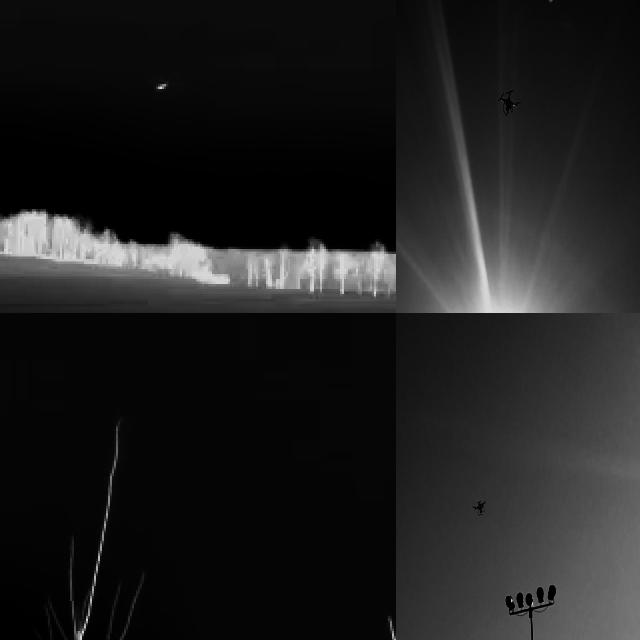1: (145, 76, 177, 104)
drone: (496, 86, 519, 121), (472, 493, 488, 521)
